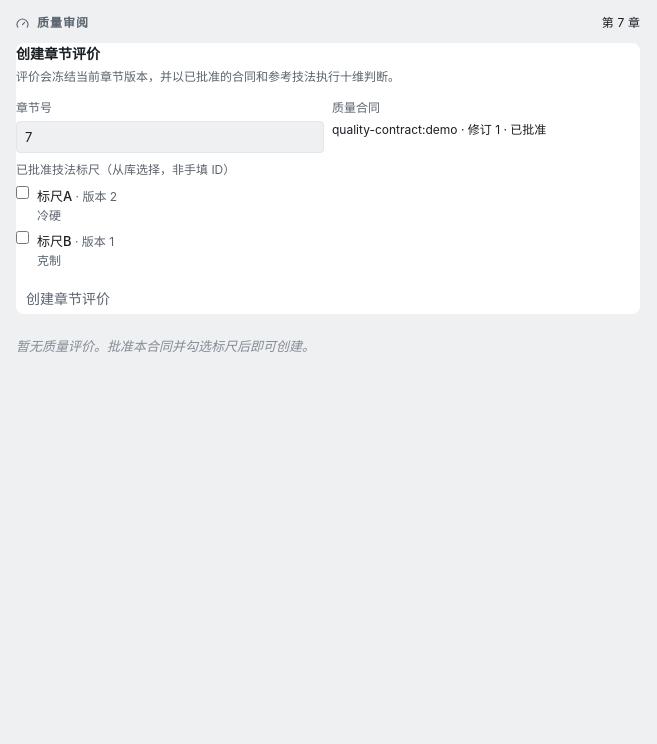
Test: QualityReview 十维三轴审阅 › 从明确章节、合同和已批准指纹创建质量快照
Expected: the text "暂无质量评价。批准本合同并勾选标尺后即可创建。" is shown, [16,338,315,354]
Expected: the text with test id "quality-bound-contract" shows "quality-contract:demo", [332,122,458,138]
// 主路径：从标尺库勾选，而非手填 ID
Click the checkbox named "选择标尺 标尺A".
click(22, 193)  # box [16,186,29,199]
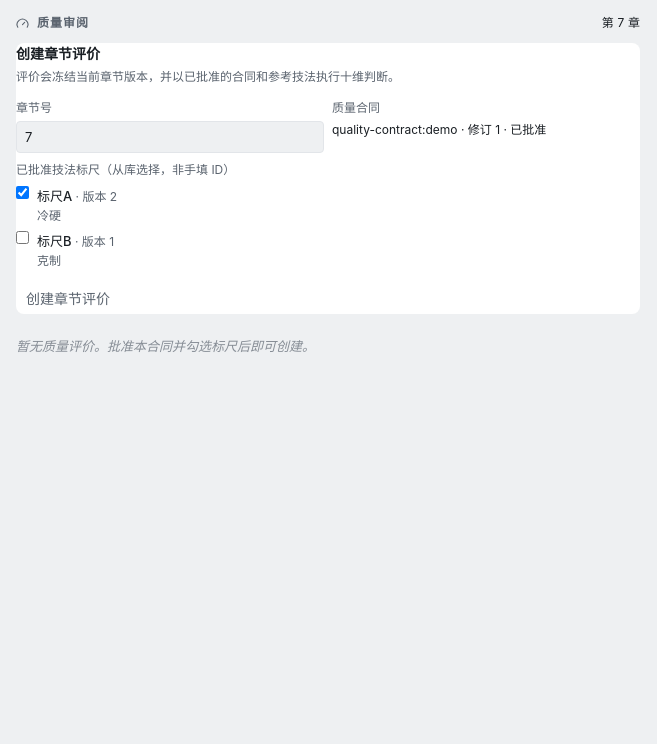
Click the checkbox named "选择标尺 标尺B".
click(22, 238)  # box [16,231,29,244]
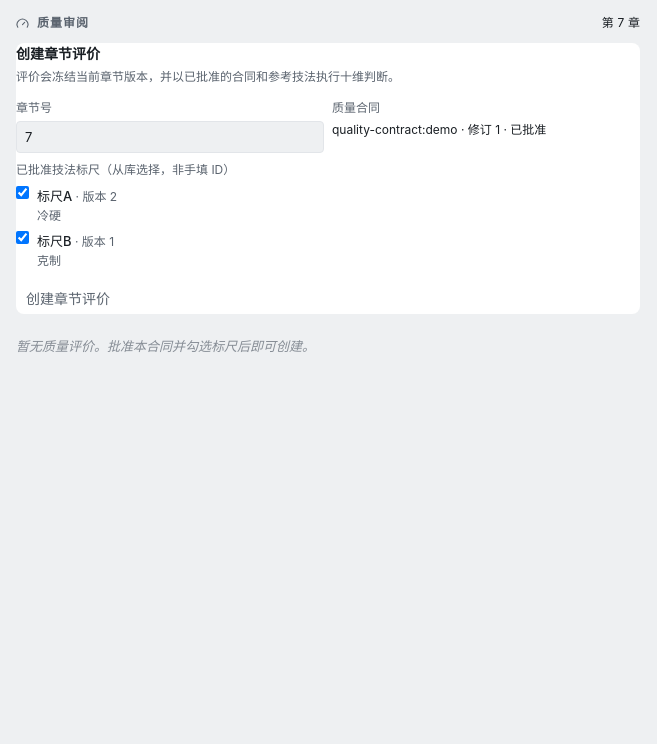
Click the button "创建章节评价".
click(68, 298)  # box [16,282,120,314]
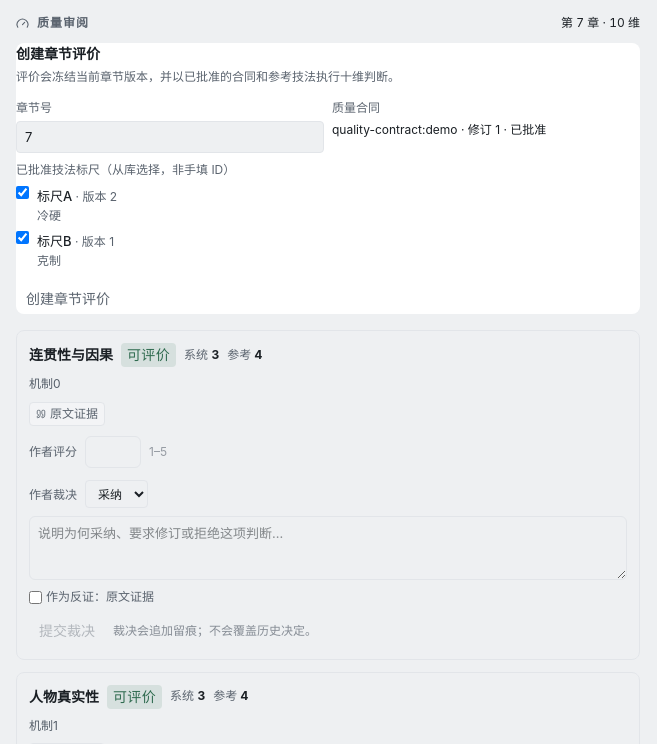
Expected: the text "连贯性与因果" is shown, [29,344,113,366]
